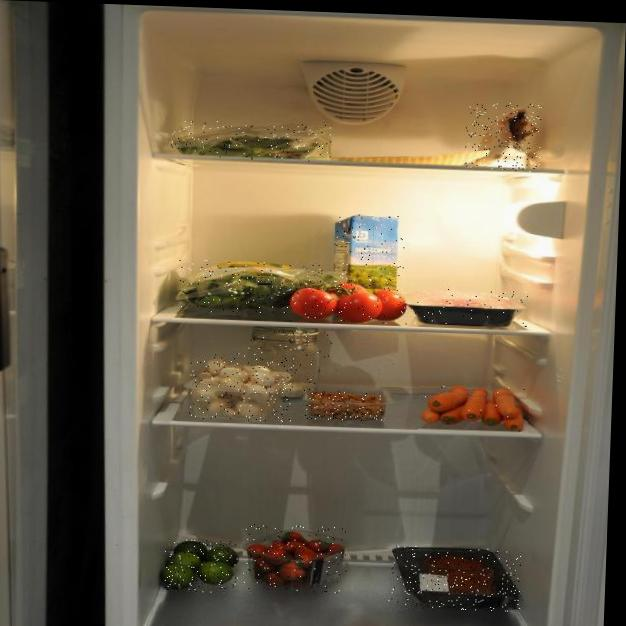beef: (389, 545, 523, 612)
carrot: (418, 384, 530, 436)
flour: (245, 326, 332, 400), (463, 101, 542, 172)
green_beans: (171, 120, 333, 162)
ground_beef: (403, 287, 528, 329)
lime: (161, 539, 240, 593)
milk: (332, 214, 405, 307)
mushrooms: (189, 352, 293, 422)
shrimp: (305, 391, 385, 422)
spinach: (178, 259, 330, 317)
strawberries: (241, 524, 348, 593)
tomato: (286, 279, 409, 325)
